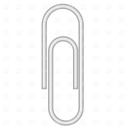Metal: (31, 0, 98, 128)
